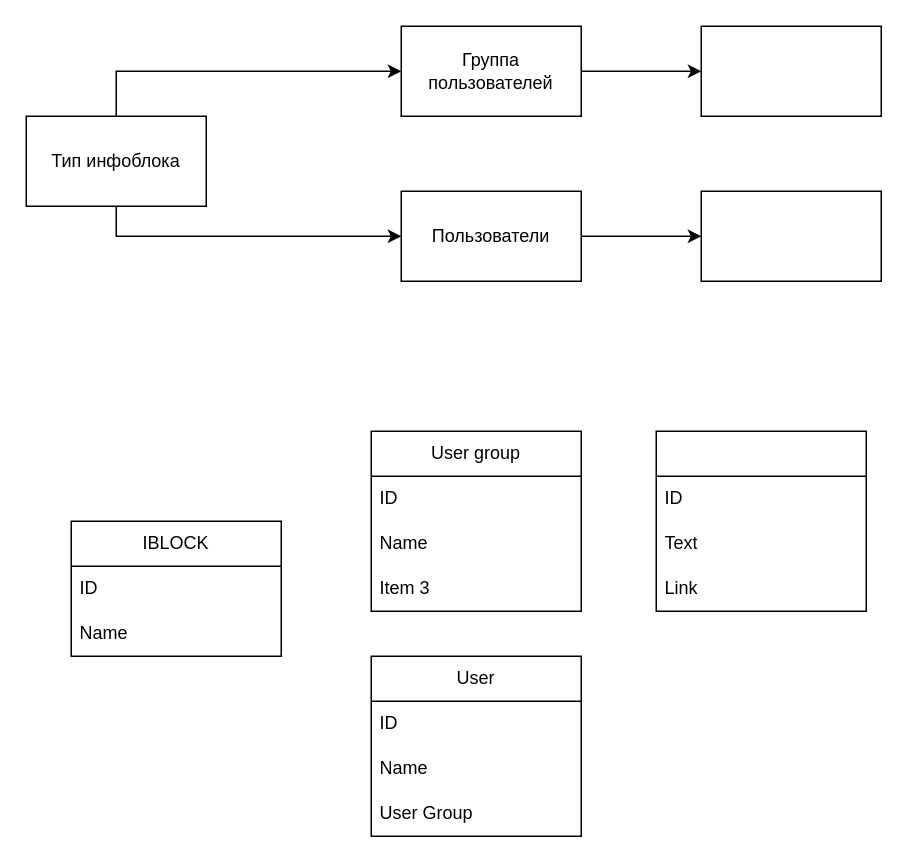
The diagram is 908 pixels wide and 863 high, and some of its shapes have lost their labels. The box of each missing label's shape, as (x1, y1, x2, y2) in pixels:
Menu Item: (655, 430, 866, 611)
Элементы меню для группы: (700, 25, 881, 116)
Элементы меню для пользователя: (700, 190, 881, 281)
